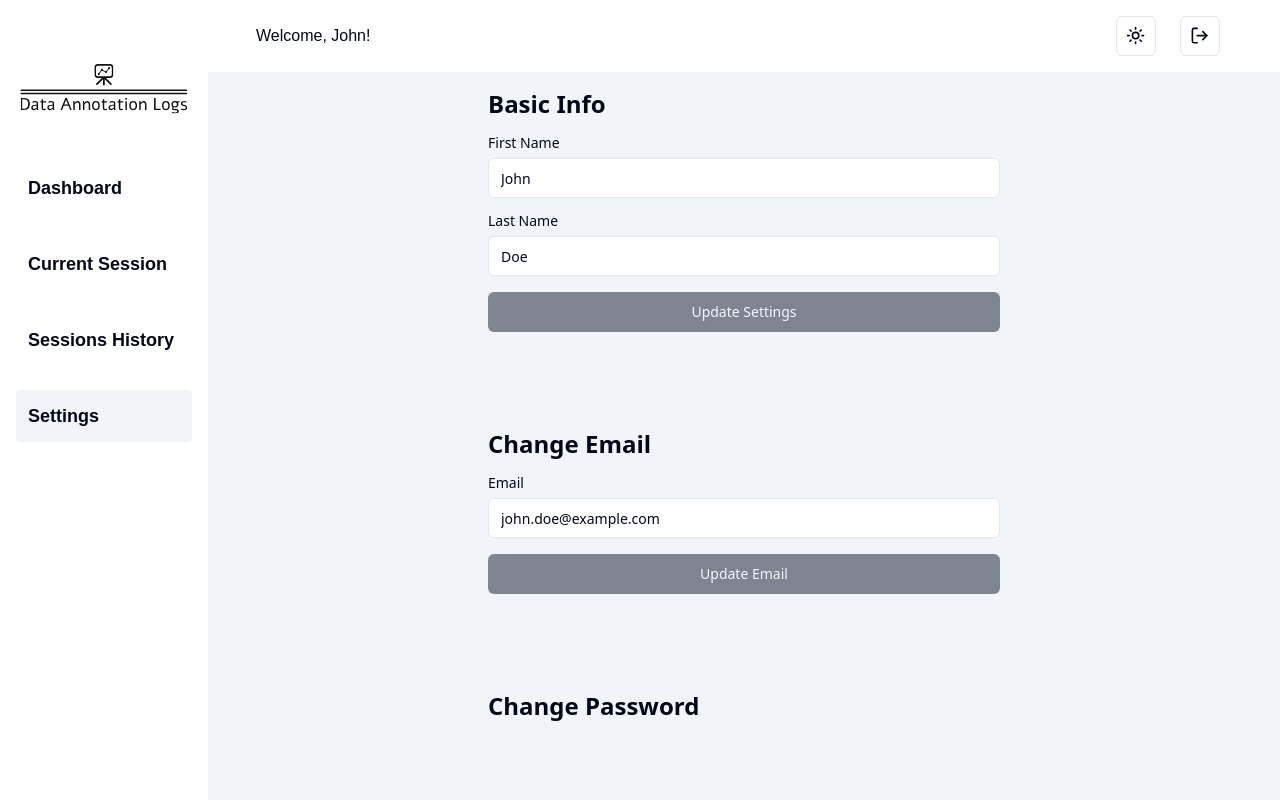
Scenario: Basic Info Form › should update user info and show toast on successful update
Replace the text in the field named "firstName" with "Jane": point(744, 178) [488,158,1000,198]
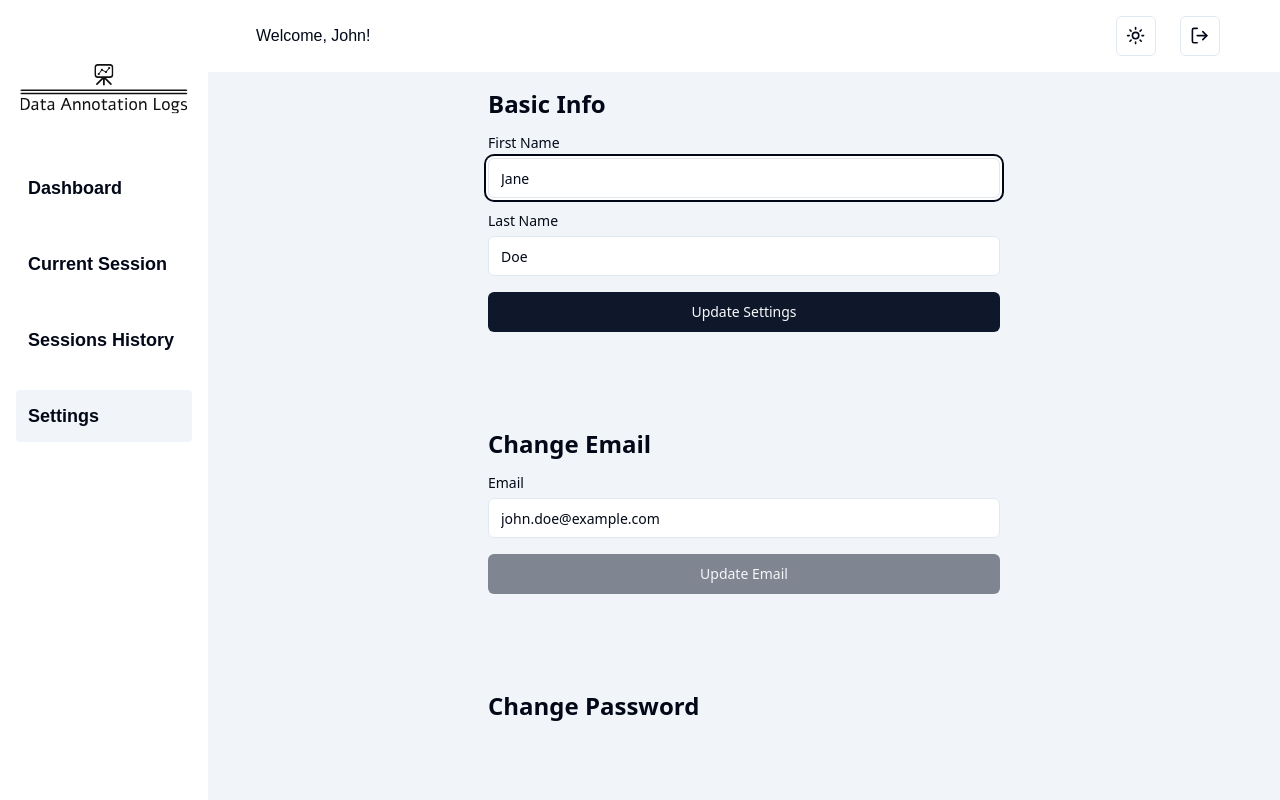
Replace the text in the field named "lastName" with "Smith": point(744, 256) [488,236,1000,276]
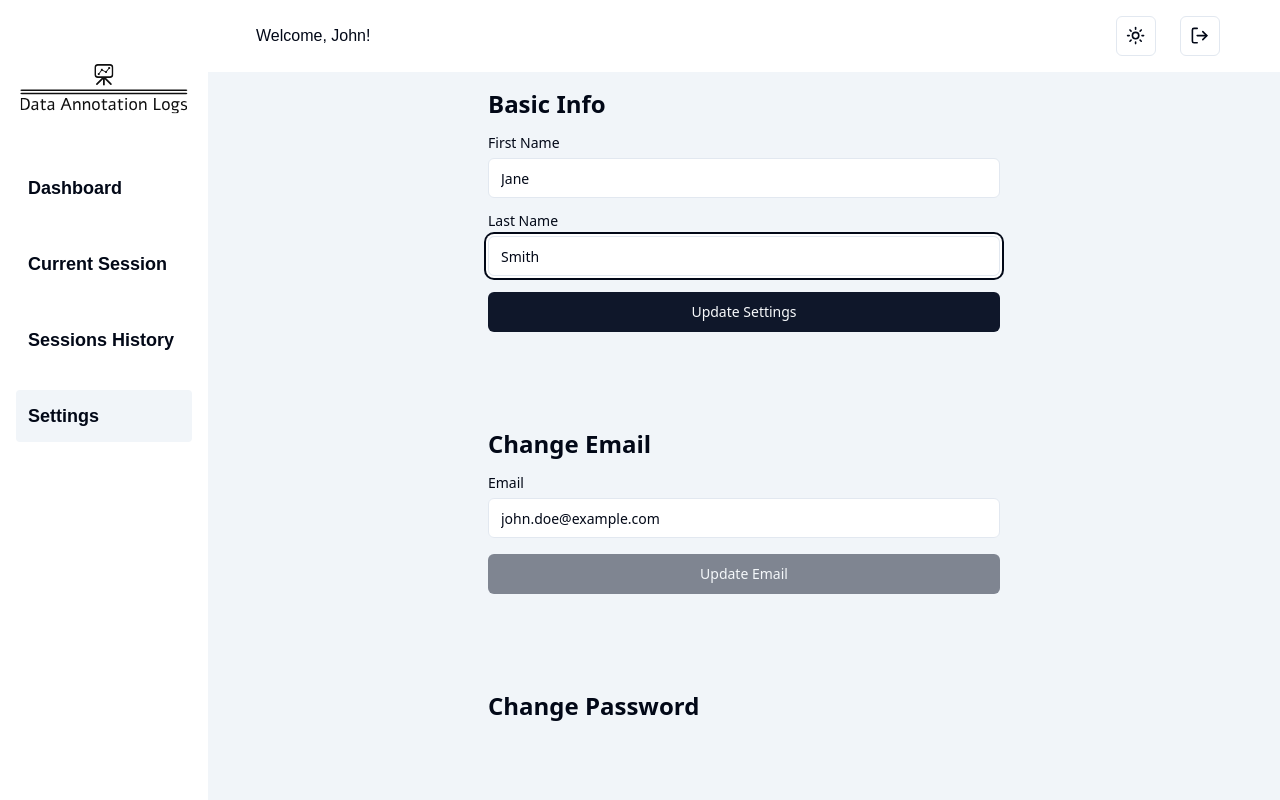
Click the button "Update Settings": point(744, 312) [488,292,1000,332]
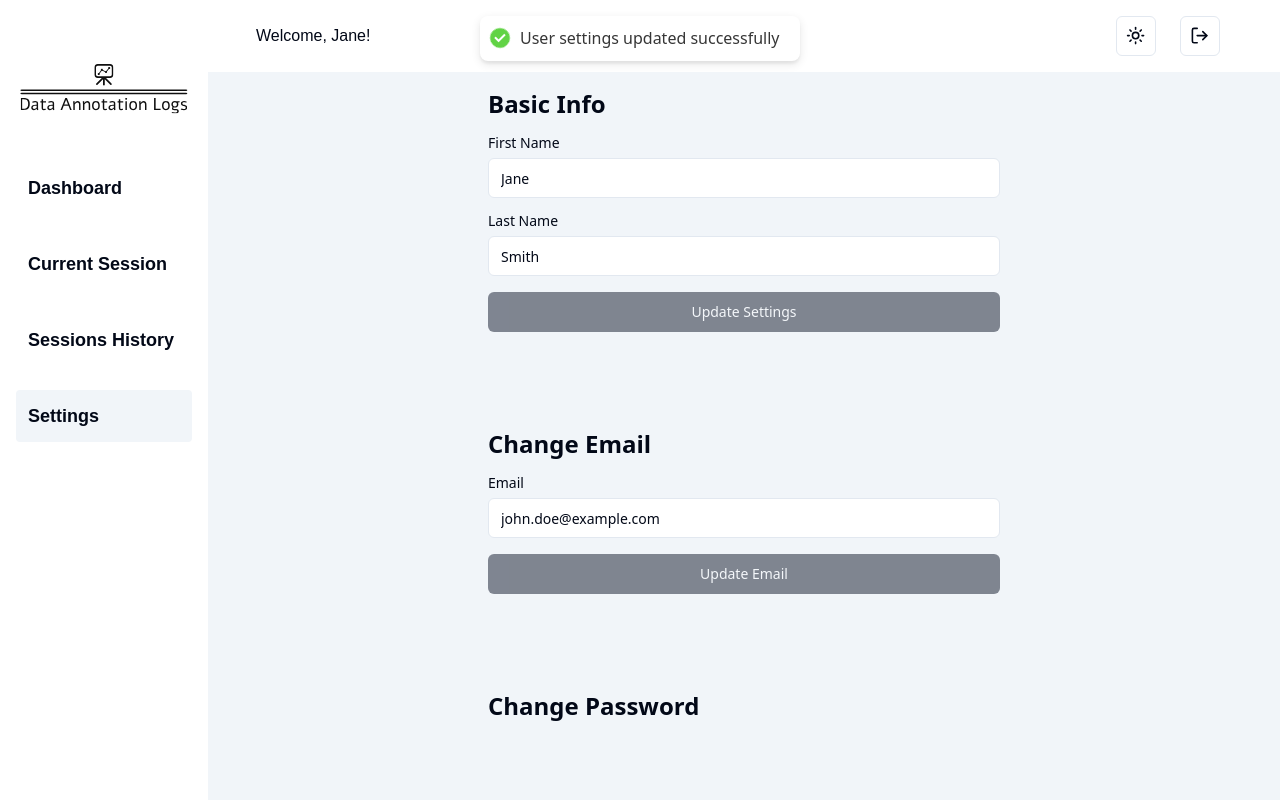
Check: the number of elements with class "react-hot-toast" is more than 0, box [480,16,800,61]
Check: the button "Update Settings" is disabled, box [488,292,1000,332]
